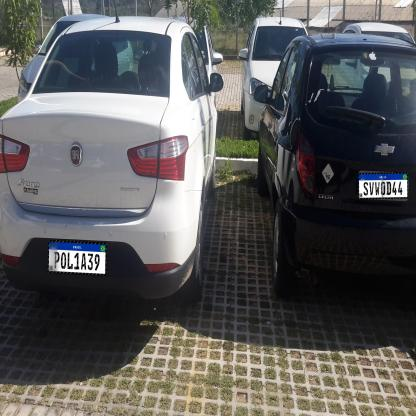PlacaM: (48, 240, 107, 276), (358, 172, 408, 199)
